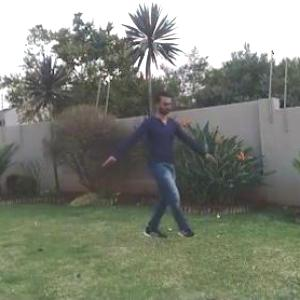land: (85, 67, 206, 265)
